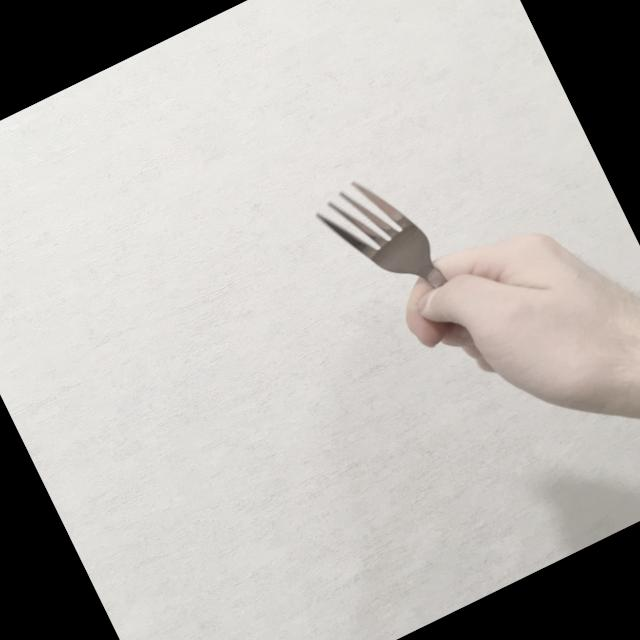fork: (308, 160, 494, 406)
